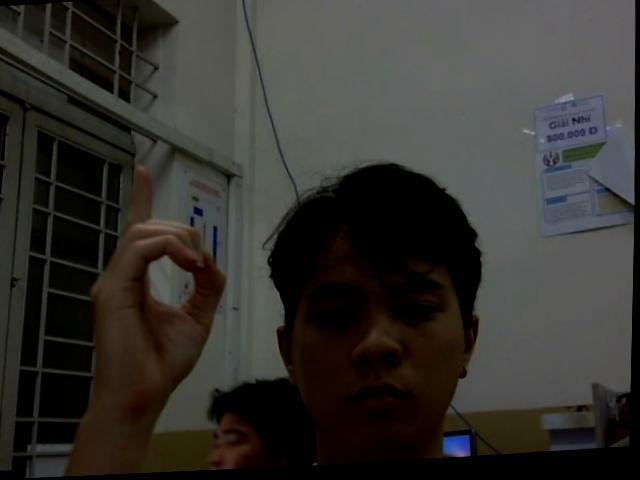D: (84, 159, 232, 416)
